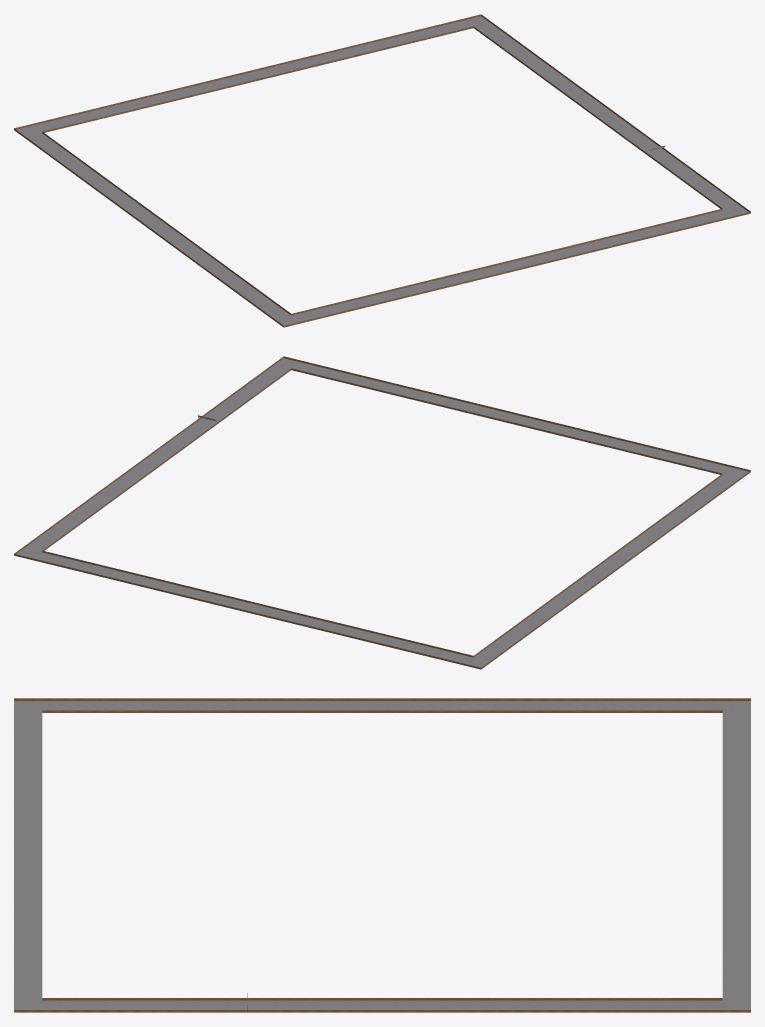
The model's file is raceway_mariokart.obj.
The picture shows the model from 3 angles, top to bottom: view 1: azimuth 30°, elevation 25°; view 2: azimuth 150°, elevation 25°; view 3: azimuth 270°, elevation 25°; orthographic projection. The views are drawn at different scales.
Visible parts, largest first — view 1: Material.001, Material.002, Material.003, Material, Material.013, Material.009, Material.007, Material.008, Material.014, Material.011, Material.006, Material.012; view 2: Material.002, Material.001, Material, Material.003, Material.009, Material.013, Material.008, Material.007, Material.014, Material.011, Material.006, Material.012; view 3: Material, Material.003, Material.001, Material.002, Material.014, Material.011, Material.006, Material.012.
Part boxes in pixels (left/top/right/bottom): Material.001: left=16, top=126, right=290, bottom=319; Material.002: left=476, top=24, right=748, bottom=216; Material.003: left=32, top=16, right=491, bottom=132; Material: left=275, top=210, right=730, bottom=325; Material.013: left=283, top=212, right=750, bottom=327; Material.009: left=14, top=14, right=481, bottom=129; Material.007: left=291, top=208, right=722, bottom=315; Material.008: left=42, top=26, right=473, bottom=132; Material.014: left=14, top=128, right=283, bottom=327; Material.011: left=481, top=14, right=750, bottom=211; Material.006: left=42, top=132, right=291, bottom=315; Material.012: left=473, top=26, right=722, bottom=208; Material.002: left=25, top=358, right=301, bottom=552; Material.001: left=465, top=475, right=737, bottom=667; Material: left=293, top=362, right=748, bottom=479; Material.003: left=16, top=548, right=472, bottom=663; Material.009: left=14, top=554, right=481, bottom=669; Material.013: left=283, top=356, right=750, bottom=471; Material.008: left=42, top=550, right=473, bottom=657; Material.007: left=291, top=368, right=722, bottom=474; Material.014: left=481, top=470, right=750, bottom=669; Material.011: left=14, top=356, right=283, bottom=553; Material.006: left=473, top=474, right=722, bottom=657; Material.012: left=42, top=368, right=291, bottom=550; Material: left=14, top=701, right=42, bottom=1000; Material.003: left=722, top=713, right=750, bottom=1009; Material.001: left=42, top=701, right=750, bottom=712; Material.002: left=14, top=1000, right=722, bottom=1009; Material.014: left=14, top=698, right=750, bottom=700; Material.011: left=14, top=1010, right=750, bottom=1012; Material.006: left=42, top=710, right=722, bottom=712; Material.012: left=42, top=998, right=722, bottom=1000.
Bounding box in the file's own units: 52.01 × 0.6 × 52.
Materials: 15 (15 with a texture image).
